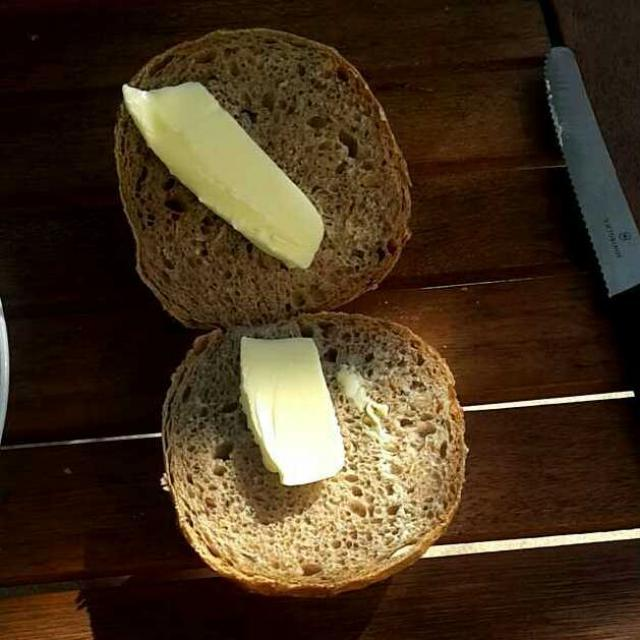bread: (102, 29, 471, 608)
butter: (121, 78, 348, 499)
